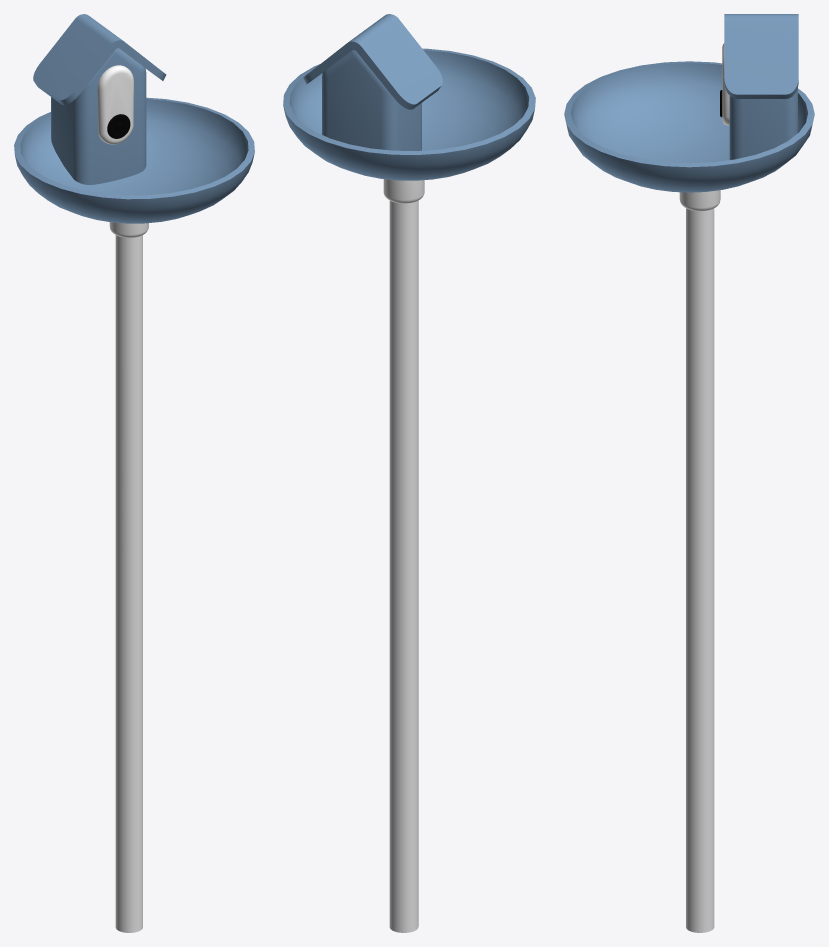
The model's file is Birdbath_V1.fbx.
3 views of the same model, side by side, from view 1: azimuth 30°, elevation 25°; view 2: azimuth 150°, elevation 25°; view 3: azimuth 270°, elevation 25° (orthographic). The views are drawn at different scales.
Visible parts, largest first — view 1: Pole, Sphere, Main, Roof, Cam_housing; view 2: Pole, Sphere, Main, Roof; view 3: Pole, Sphere, Roof, Main.
Boxes of the visible parts, x1,y1,x2,y2 form: Pole: [109, 222, 148, 932]; Sphere: [14, 97, 254, 223]; Main: [51, 48, 146, 184]; Roof: [33, 14, 166, 105]; Cam_housing: [97, 65, 133, 144]; Pole: [383, 179, 424, 932]; Sphere: [283, 48, 535, 180]; Main: [322, 50, 421, 150]; Roof: [303, 14, 442, 109]; Pole: [679, 190, 720, 932]; Sphere: [564, 61, 814, 192]; Roof: [724, 14, 798, 98]; Main: [729, 88, 797, 159].
Size of the model in its own units: 370 by 1487 by 370.
